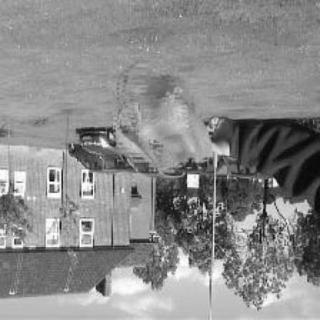other: (110, 63, 226, 170)
